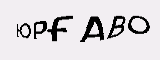Б: (112, 31, 128, 49)
И: (66, 29, 86, 47), (90, 36, 109, 50)
С: (38, 22, 48, 40)
Ч: (49, 26, 61, 43)
